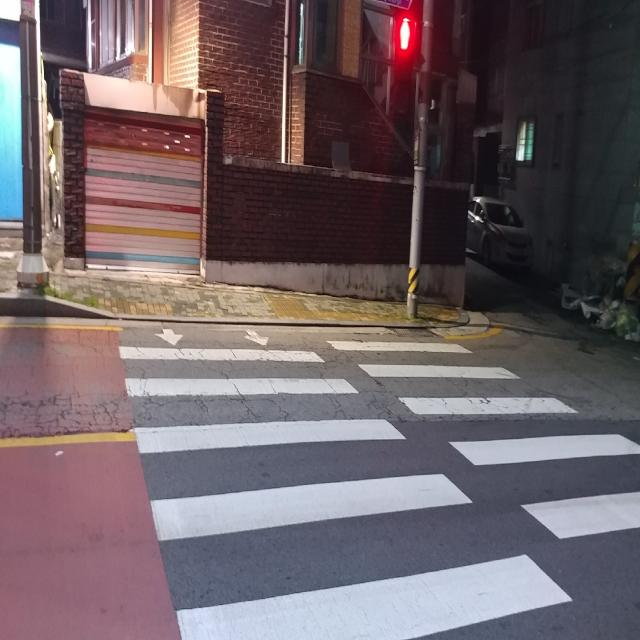빨간불: (387, 11, 417, 112)
횡단보도: (117, 325, 640, 640)
